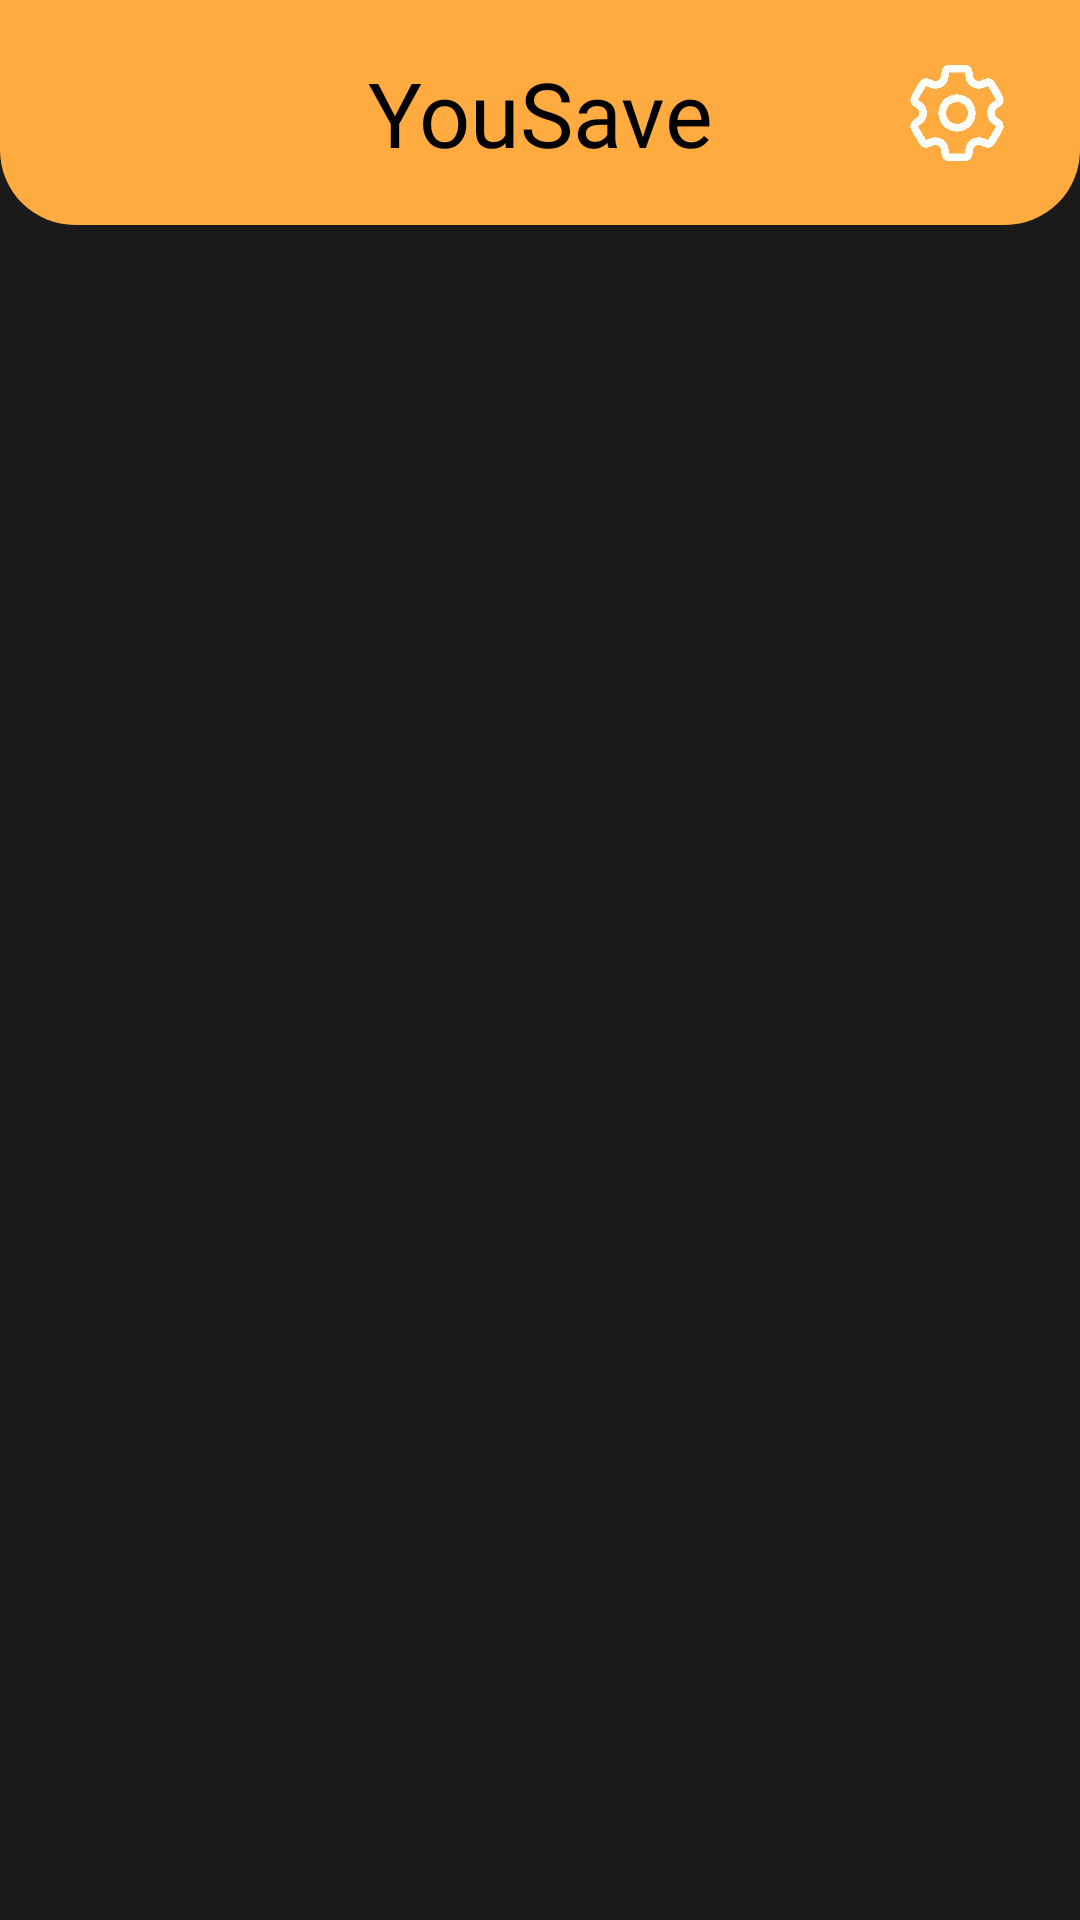

Icons on this 1080×1920 Android screen, each with its box as (x1, y1, x2, y2):
settings: (910, 65, 1004, 161)
